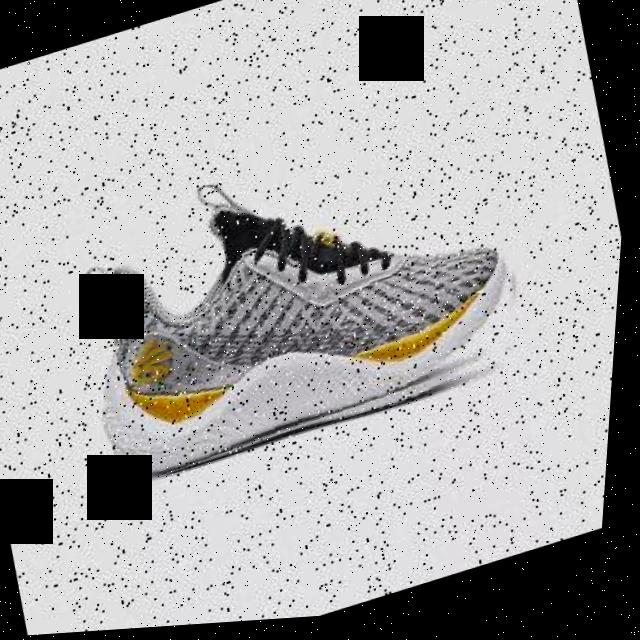shoe: (61, 102, 554, 496)
